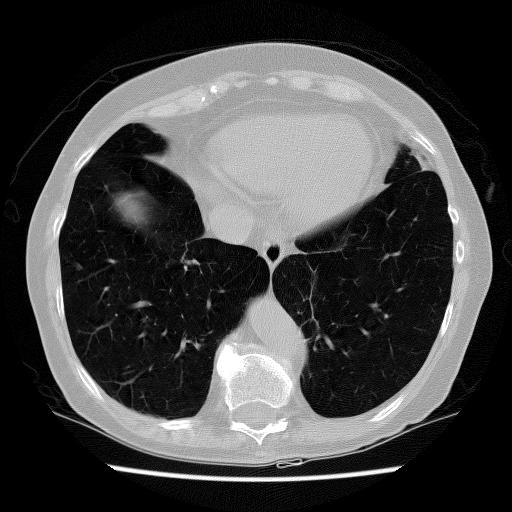nodule: (72, 260, 85, 273)
